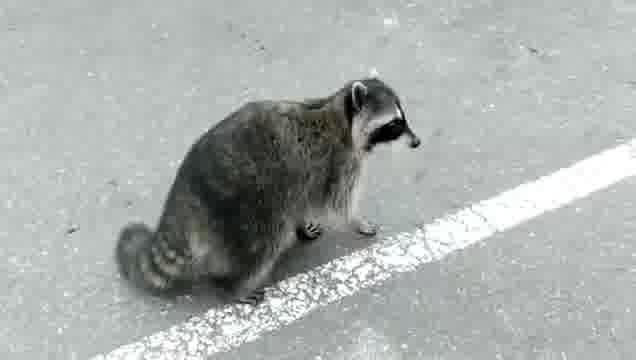raccoon: (113, 61, 420, 316)
